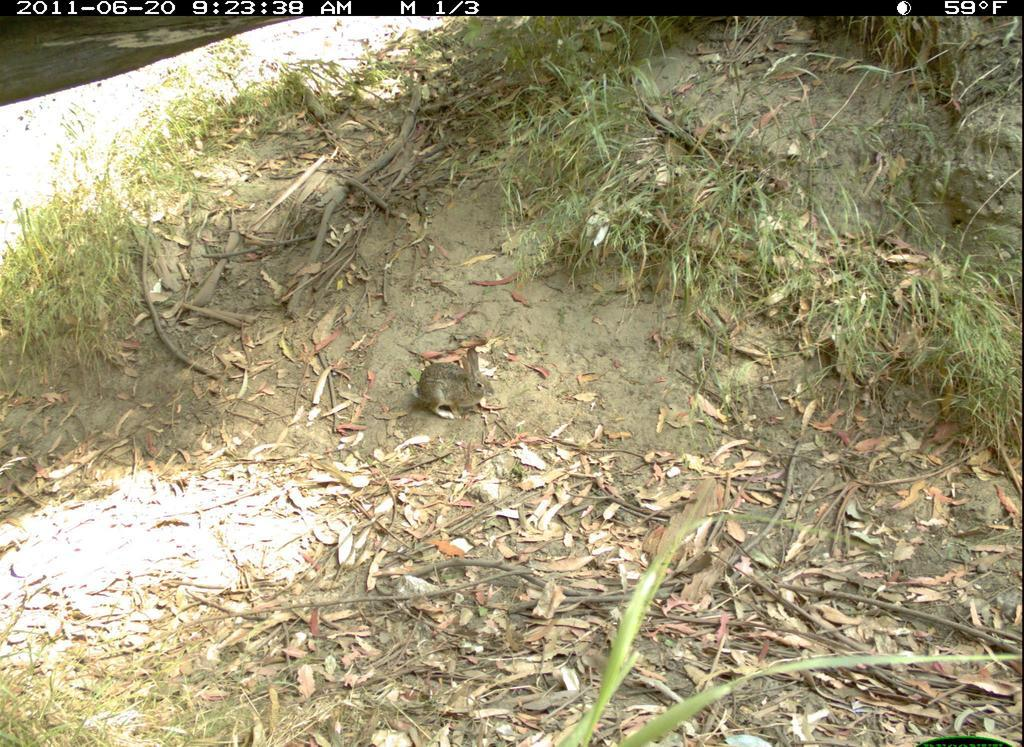rabbit: (408, 340, 504, 429)
